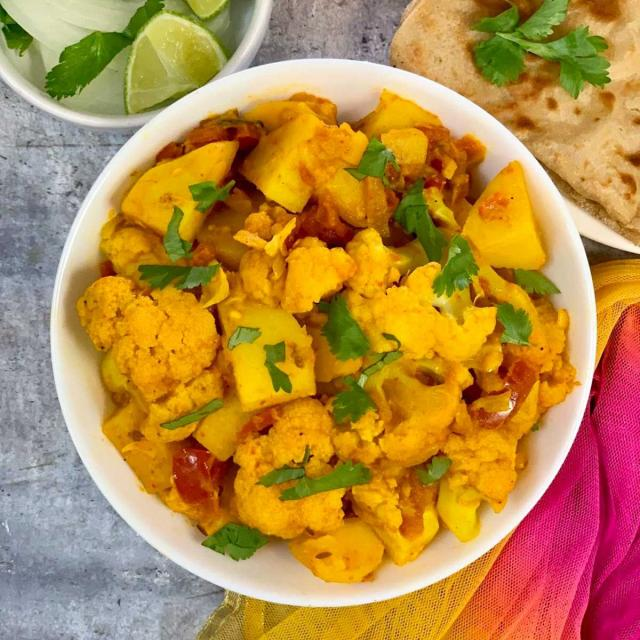Aloo Gobi: (74, 80, 565, 585)
